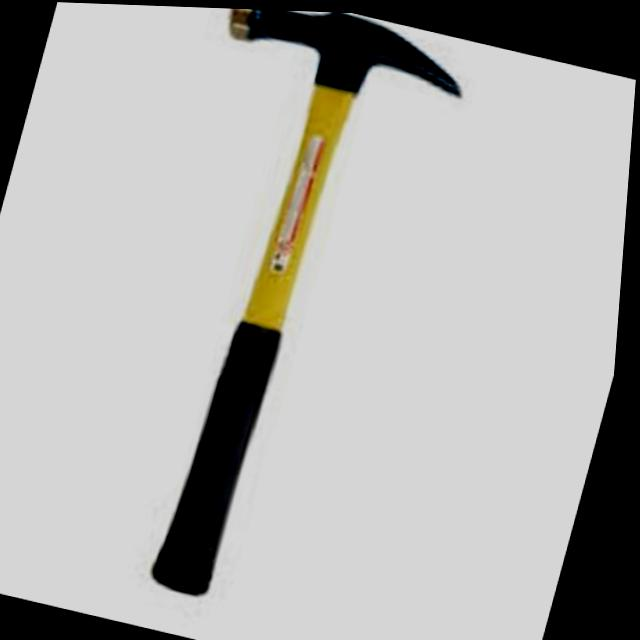hammer: (54, 3, 481, 640)
